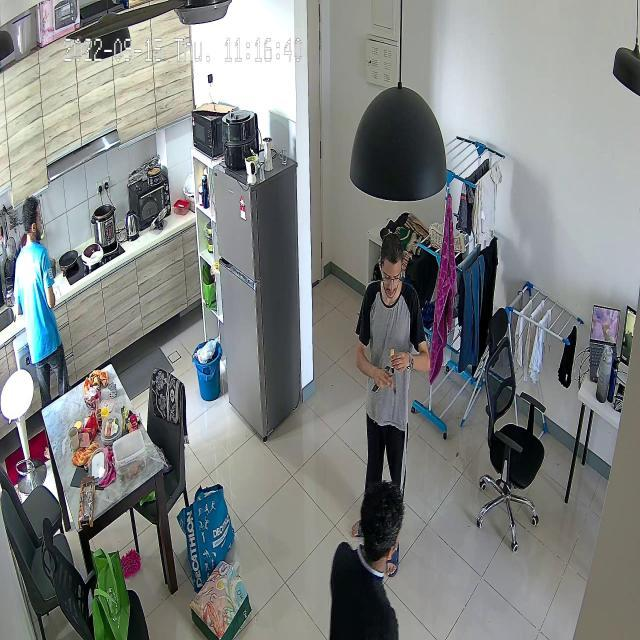Knife: (382, 346, 404, 404)
